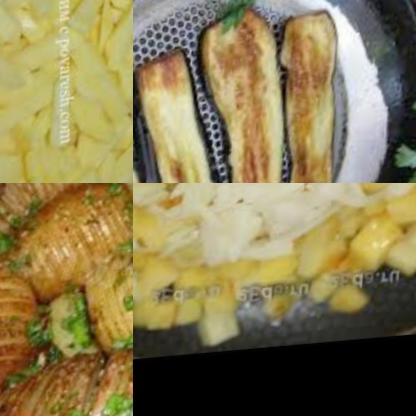eggplant: (190, 0, 370, 183), (133, 47, 269, 183)
onion: (172, 183, 367, 280)
potato: (133, 201, 416, 336), (0, 0, 133, 183), (35, 214, 133, 361), (25, 183, 133, 277), (0, 341, 133, 416), (0, 183, 132, 246), (0, 218, 42, 395), (133, 183, 179, 245), (367, 183, 416, 222)
